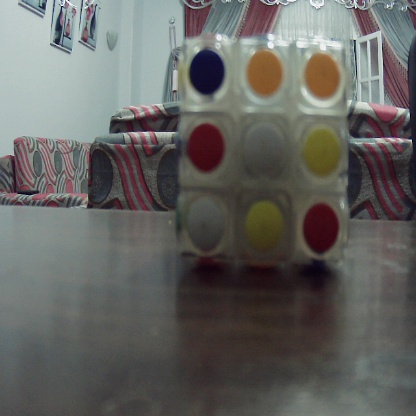Rubix Cube: (175, 32, 351, 264)
